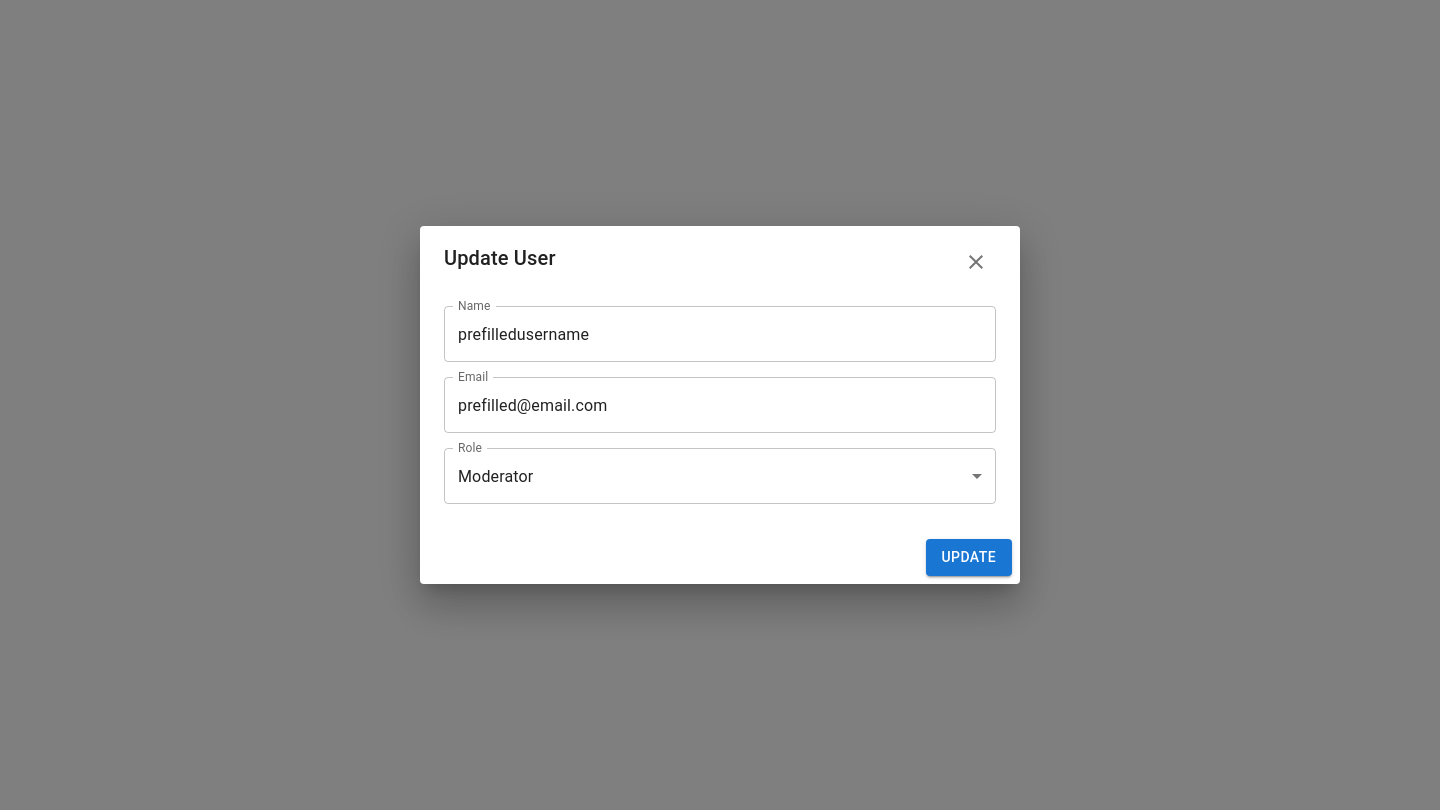
Test: UserActionDialog › Update and Delete User › should display prefilled information correctly
The width and height of the screenshot is (1440, 810).
Expected: the heading with test id "user-edit-title" reads "Update User", [444, 246, 556, 270]
Expected: the button with test id "user-edit-close-button" is shown, [956, 242, 996, 282]
Click the dropdown with test id "user-edit-role-select" at (496, 476), box [458, 467, 533, 486]
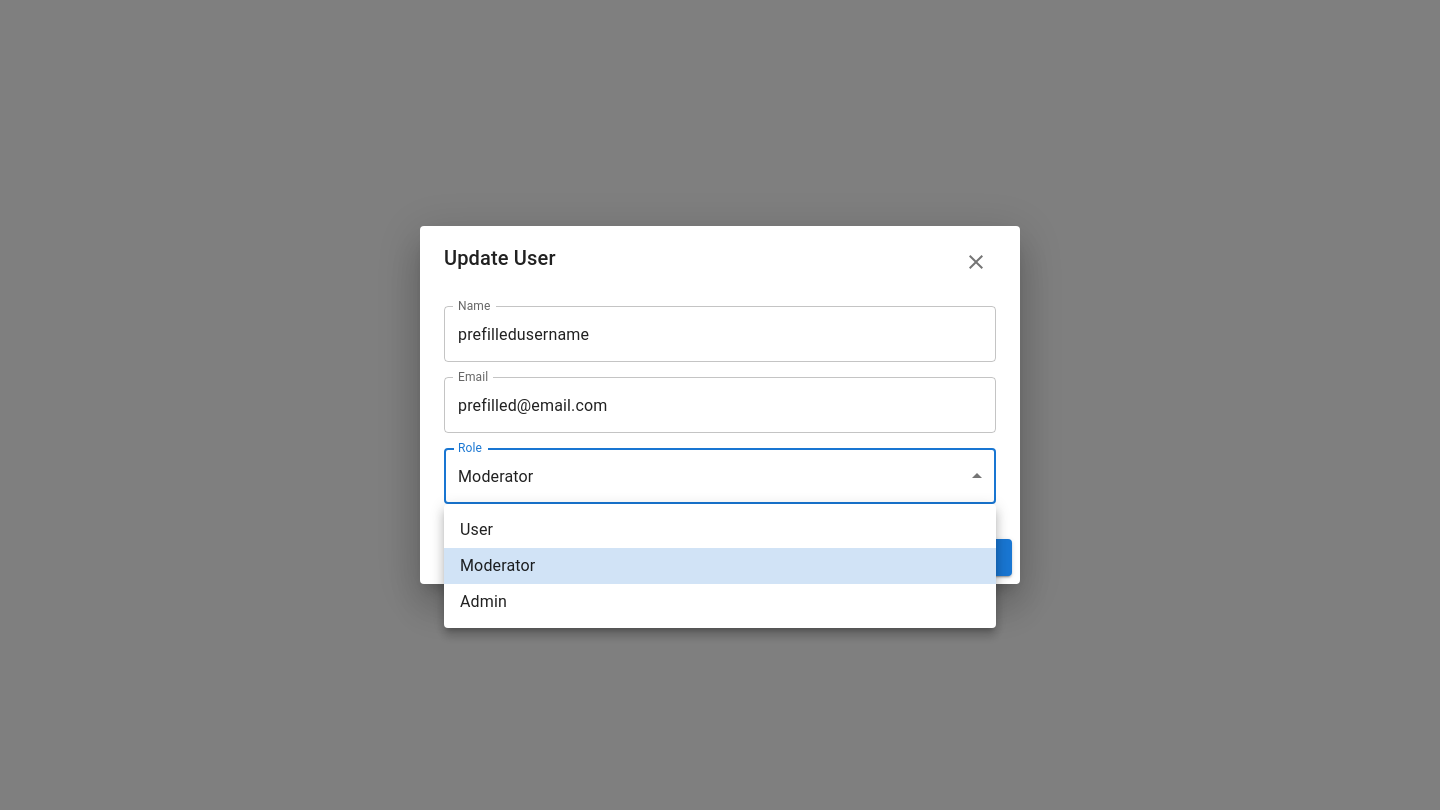
Expected: the option with test id "user-edit-role-select-item-0" reads "User", [460, 520, 493, 539]
Expected: the option with test id "user-edit-role-select-item-1" reads "Moderator", [444, 548, 996, 584]
Expected: the option with test id "user-edit-role-select-item-2" reads "Admin", [460, 592, 507, 611]
